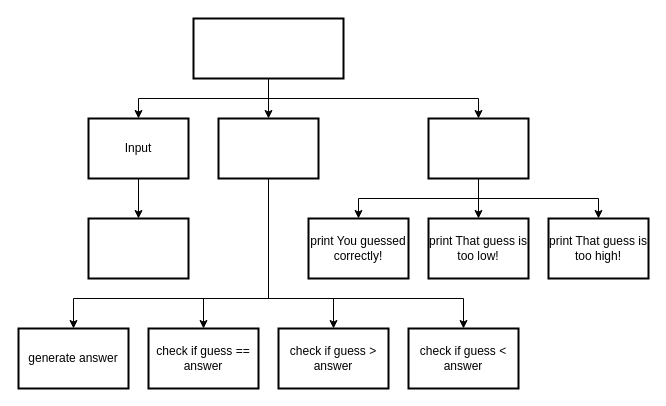
The diagram is 666 pixels wide and 406 high, and some of its shapes have lost their labels. The shapes that lost their labels are listed below. From the top down, each one's box as (x1, y1, x2, y2) in pixels, then its label:
(192, 17, 344, 79): final_number_guesser
(217, 117, 319, 179): Process
(427, 117, 529, 179): Output
(87, 217, 189, 279): get guess
